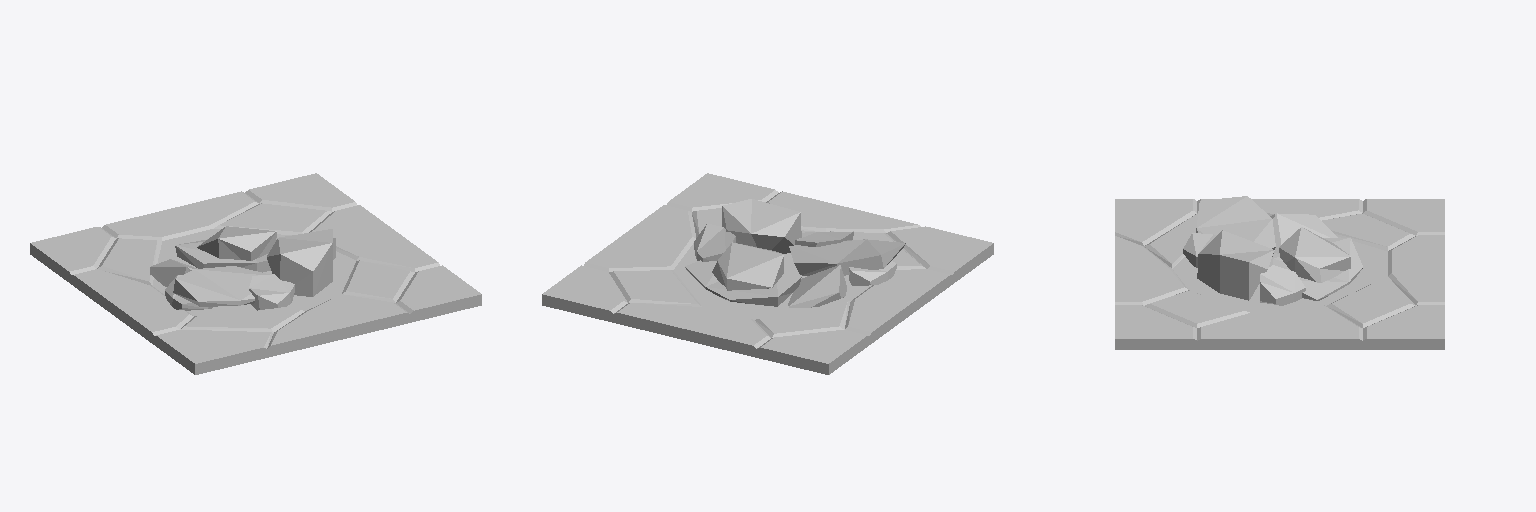
Rendered from floor_tile_large_rocks.obj.
The picture shows the model from 3 angles: view 1: azimuth 30°, elevation 25°; view 2: azimuth 150°, elevation 25°; view 3: azimuth 270°, elevation 25°; orthographic projection.
Parts seen in each view (by area): view 1: floor_tile_large_rocks_Cube.15090; view 2: floor_tile_large_rocks_Cube.15090; view 3: floor_tile_large_rocks_Cube.15090.
Boxes of the visible parts, <box> form: floor_tile_large_rocks_Cube.15090: <box>30,173,481,374</box>; floor_tile_large_rocks_Cube.15090: <box>542,173,993,374</box>; floor_tile_large_rocks_Cube.15090: <box>1115,196,1444,349</box>.
Size of the model in its own units: 4 by 0.6362 by 4.